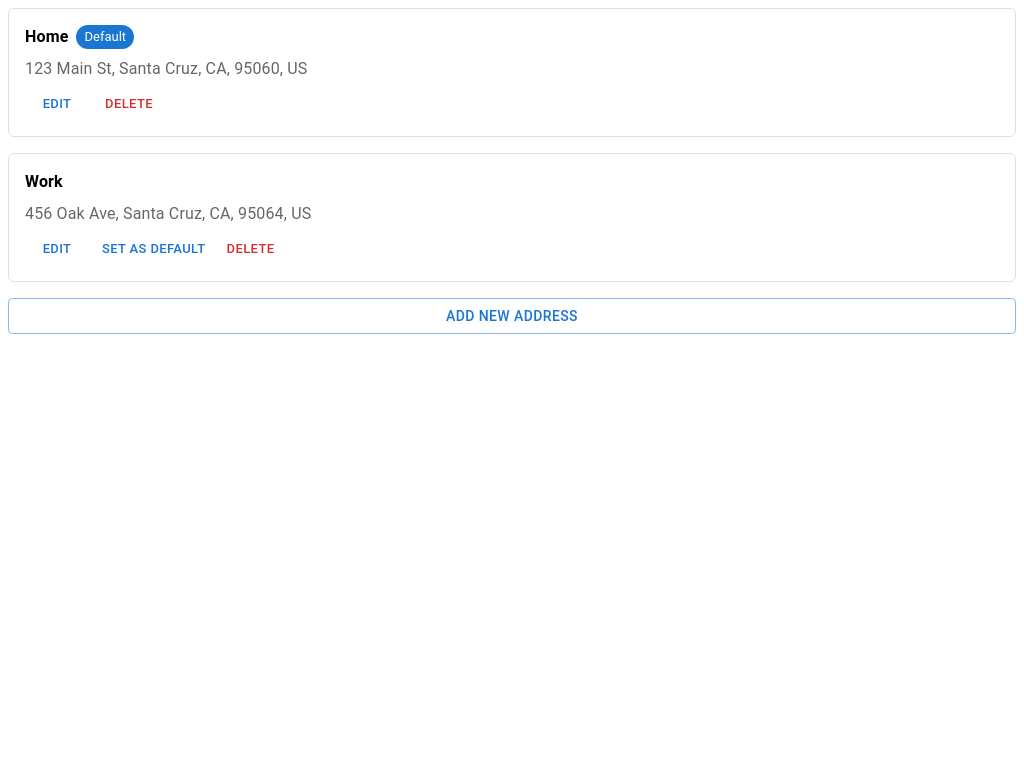
Test: cancels adding a new address
Click the button "Add new address": point(512, 316) [8,298,1016,334]
(page scrolled)
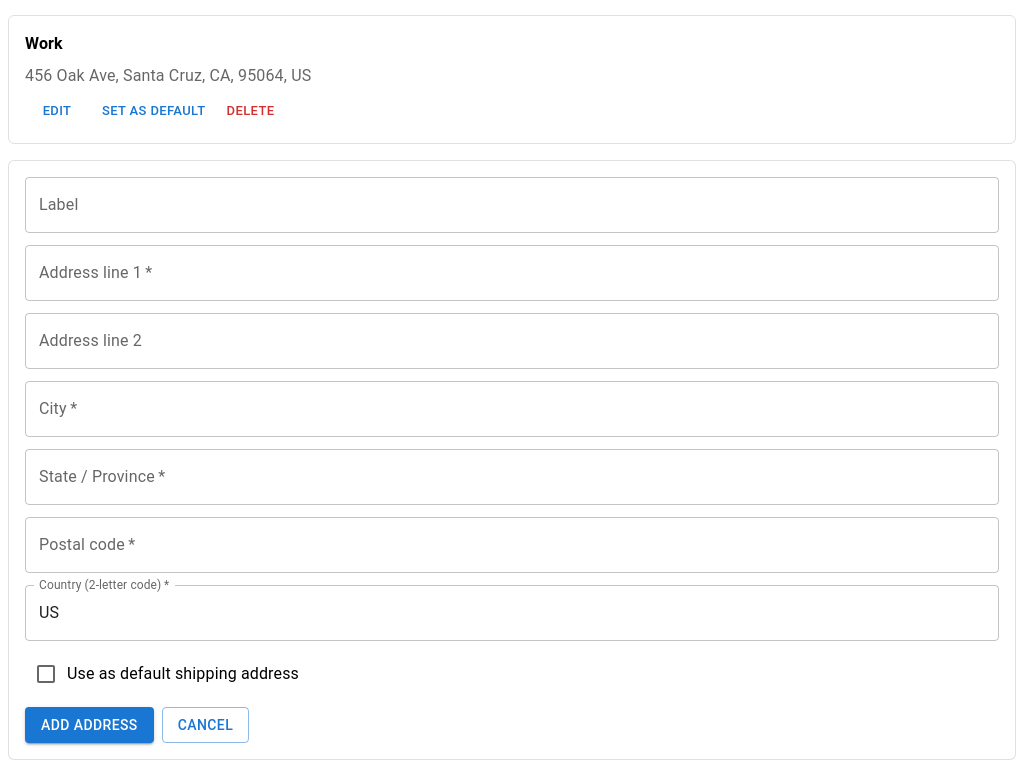
Click the button "Cancel": point(205, 725) [162,706,249,743]
(page scrolled)
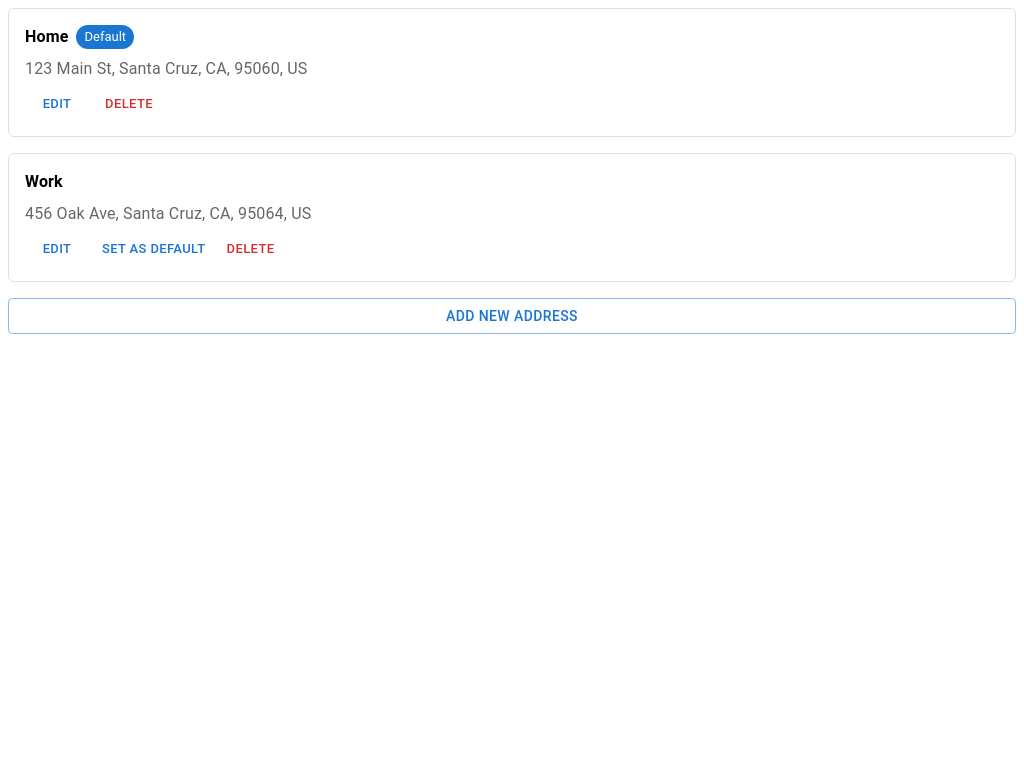
Now the button "Add new address" is shown, box [8,298,1016,334]
